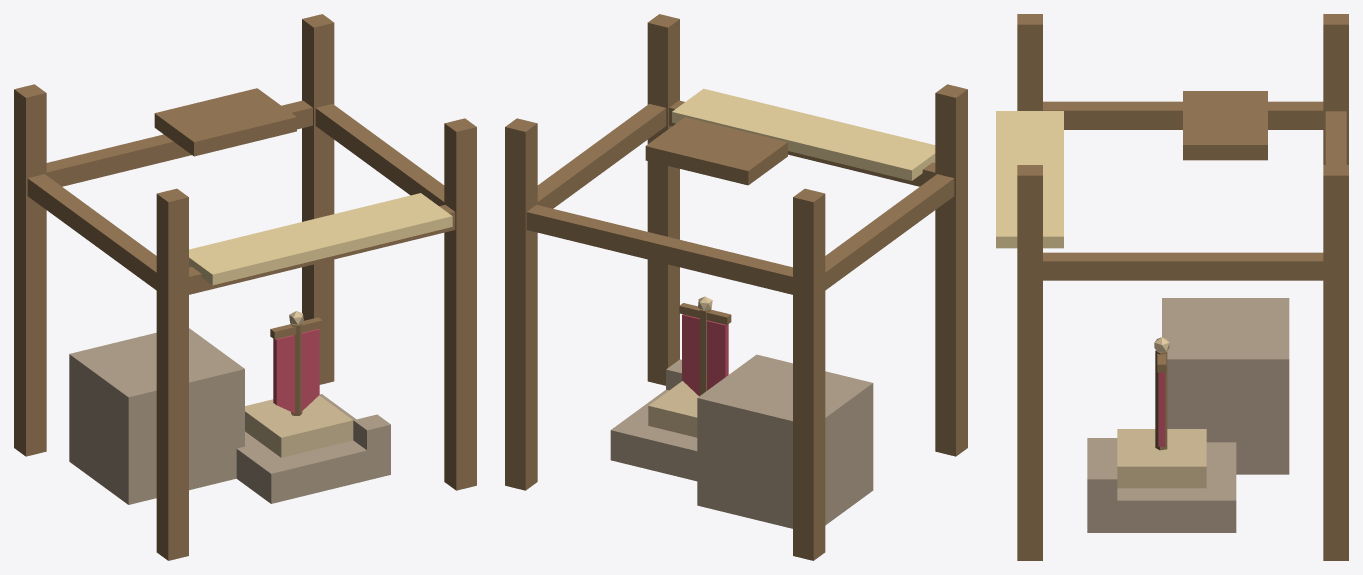
The model's file is medieval-scaffold.glb.
The picture shows the model from 3 angles, left to right: view 1: azimuth 30°, elevation 25°; view 2: azimuth 150°, elevation 25°; view 3: azimuth 270°, elevation 25°; orthographic projection. The views are drawn at different scales.
Parts seen in each view (by area): view 1: medieval-scaffold; view 2: medieval-scaffold; view 3: medieval-scaffold.
Boxes of the visible parts, <box> form: medieval-scaffold: <box>14,14,476,560</box>; medieval-scaffold: <box>505,14,967,560</box>; medieval-scaffold: <box>996,14,1348,560</box>.
Size of the model in its own units: 0.9 by 1 by 0.83.
